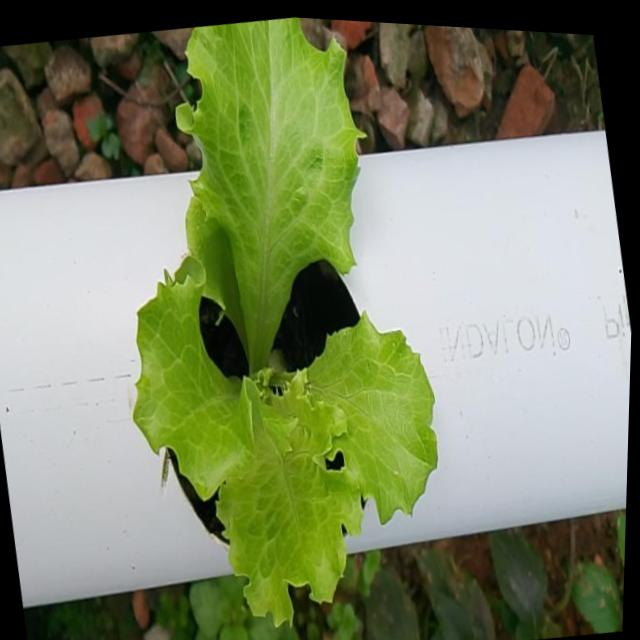Baby: (140, 17, 438, 627)
